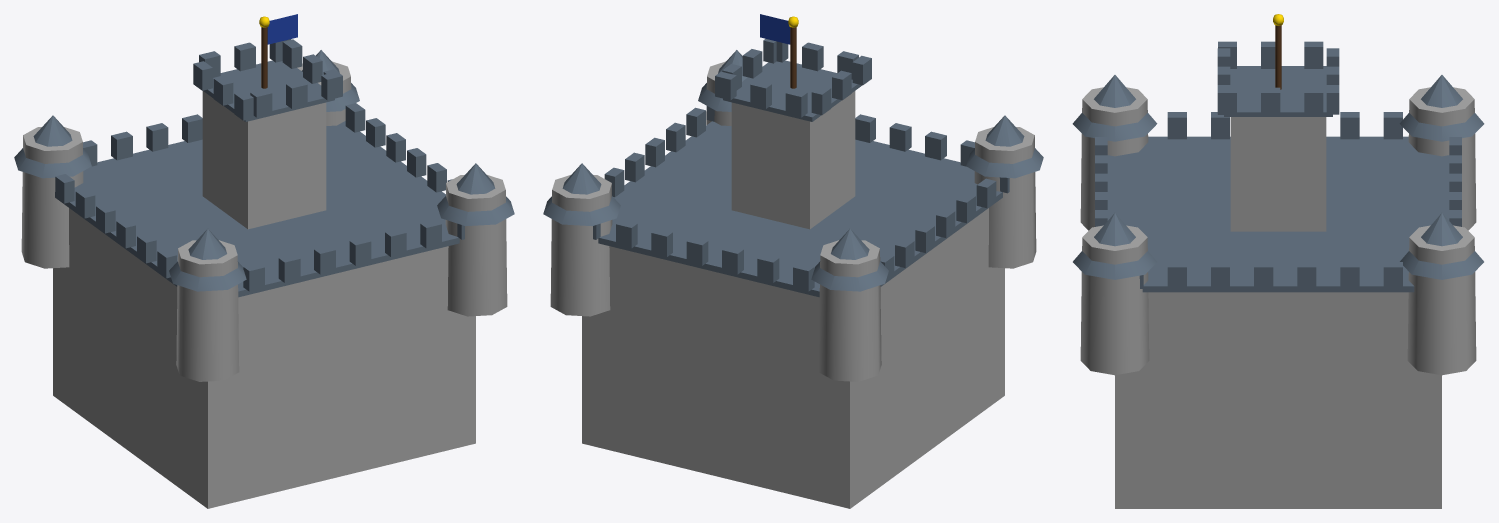
The model's file is citadel_t3.glb.
3 views of the same model, side by side, from view 1: azimuth 30°, elevation 25°; view 2: azimuth 150°, elevation 25°; view 3: azimuth 270°, elevation 25° (orthographic). The views are drawn at different scales.
Visible parts, largest first — view 1: building-citadel, flag; view 2: building-citadel, flag; view 3: building-citadel, stance-banner.
Boxes of the visible parts, left/top/right/bottom form: building-citadel: left=14, top=39, right=514, bottom=508; flag: left=267, top=14, right=297, bottom=44; building-citadel: left=543, top=38, right=1043, bottom=508; flag: left=760, top=14, right=790, bottom=44; building-citadel: left=1072, top=41, right=1484, bottom=508; stance-banner: left=1273, top=14, right=1283, bottom=89.
Size of the model in its own units: 0.2576 by 0.2937 by 0.2576.
